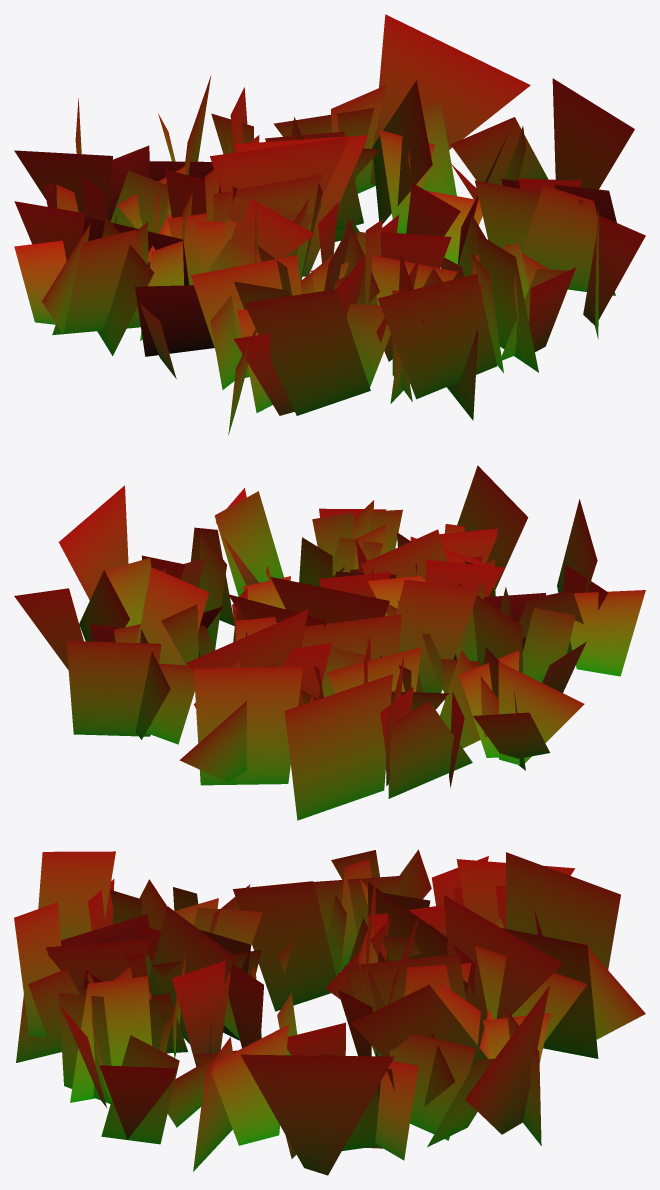
Rendered from Var3_LOD2.fbx.
The picture shows the model from 3 angles, top to bottom: view 1: azimuth 30°, elevation 25°; view 2: azimuth 150°, elevation 25°; view 3: azimuth 270°, elevation 25°; orthographic projection. The views are drawn at different scales.
Visible parts, largest first — view 1: _b623_Var3_LOD2; view 2: _b623_Var3_LOD2; view 3: _b623_Var3_LOD2.
Part boxes in pixels (left/top/right/bottom): _b623_Var3_LOD2: left=14, top=14, right=645, bottom=435; _b623_Var3_LOD2: left=14, top=465, right=645, bottom=820; _b623_Var3_LOD2: left=14, top=849, right=645, bottom=1175.
Size of the model in its own units: 86.51 by 26.3 by 85.43.
